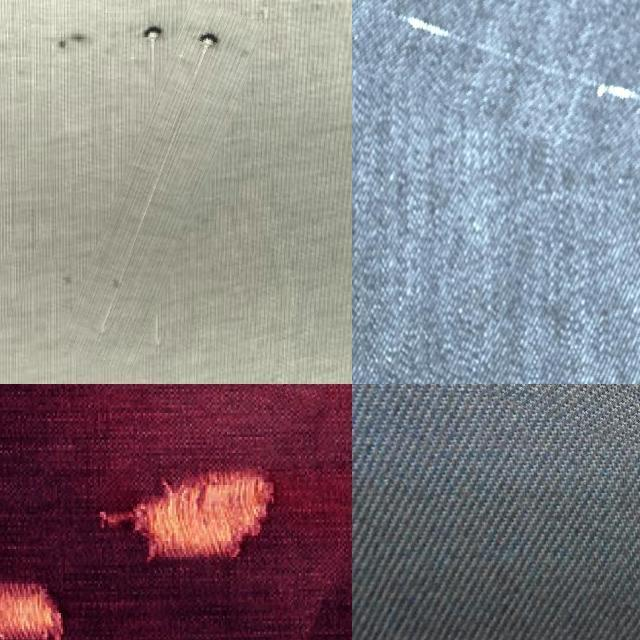other: (28, 414, 334, 575), (0, 511, 96, 640)
stains: (89, 0, 235, 377), (352, 0, 640, 164)
